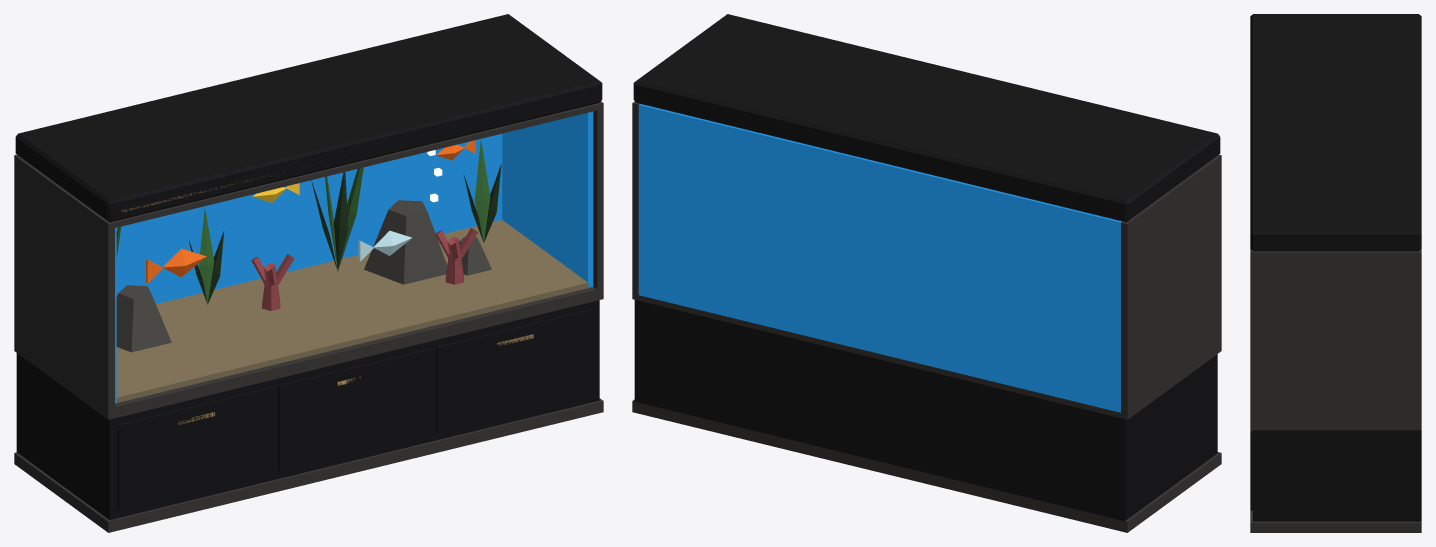
3 views of the same model, side by side, from view 1: azimuth 30°, elevation 25°; view 2: azimuth 150°, elevation 25°; view 3: azimuth 270°, elevation 25° (orthographic). The views are drawn at different scales.
Parts seen in each view (by area): view 1: furniture_23_shelf_unique_aquarium; view 2: furniture_23_shelf_unique_aquarium; view 3: furniture_23_shelf_unique_aquarium.
Part boxes in pixels (left/top/right/bottom): furniture_23_shelf_unique_aquarium: left=14, top=14, right=603, bottom=532; furniture_23_shelf_unique_aquarium: left=632, top=14, right=1221, bottom=532; furniture_23_shelf_unique_aquarium: left=1250, top=14, right=1421, bottom=532.
Size of the model in its own units: 3.76 by 2.4 by 1.24.
